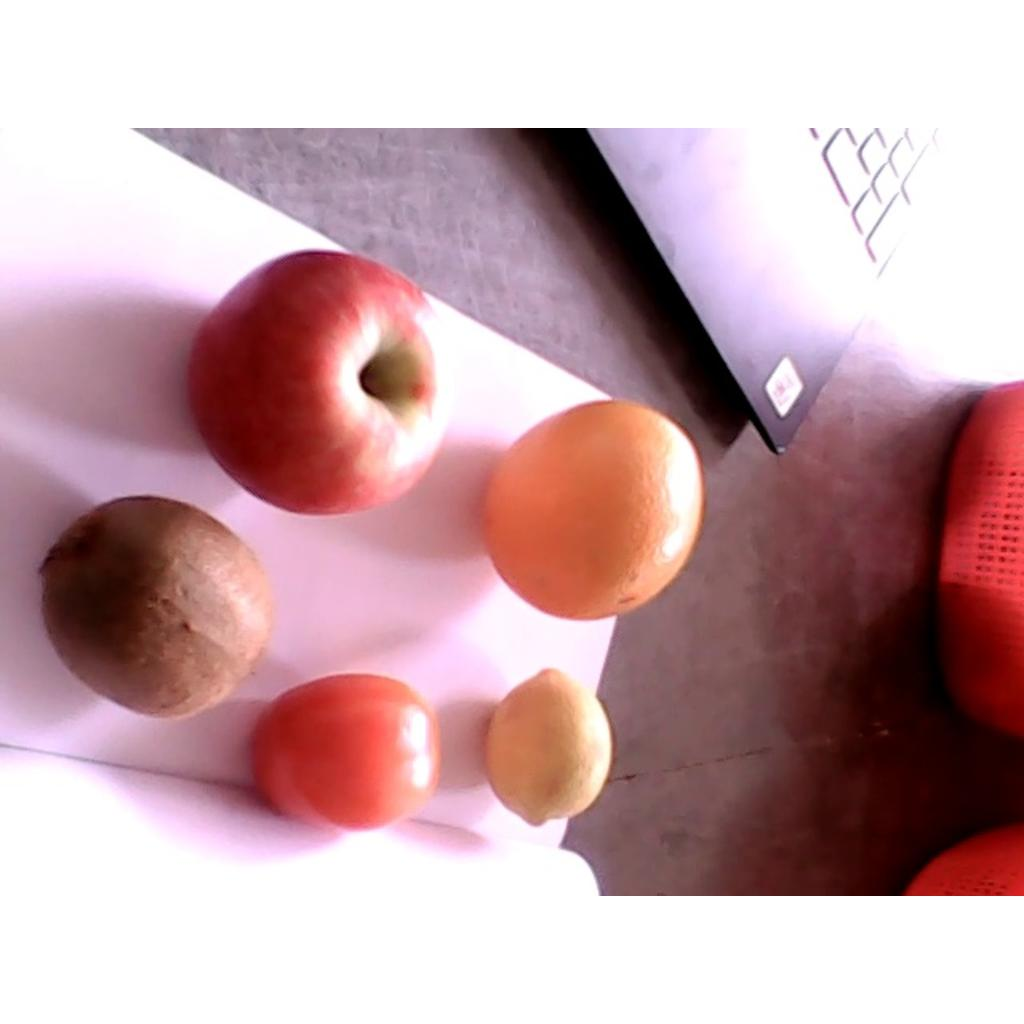apple: (186, 252, 453, 516)
kiwi: (37, 496, 276, 721)
lemon: (483, 669, 613, 825)
orange: (485, 400, 703, 619)
tomato: (250, 673, 443, 828)
